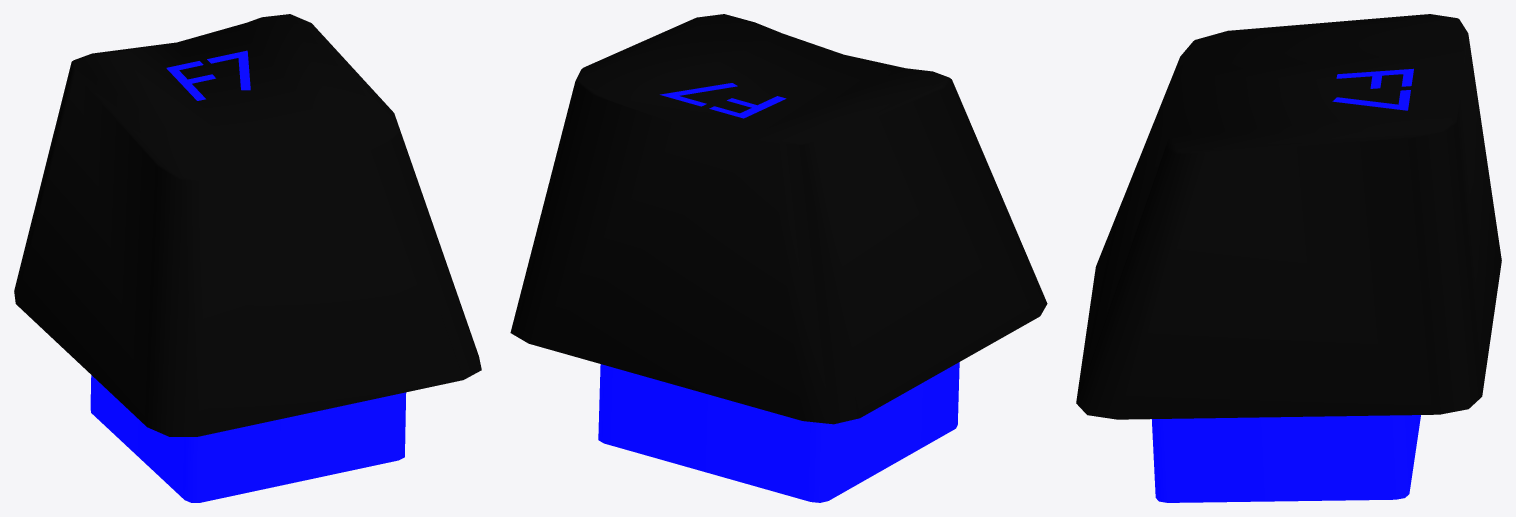
File: f7-B7yr6JSC.glb
3 renders of one model, left to right at view 1: azimuth 30°, elevation 25°; view 2: azimuth 150°, elevation 25°; view 3: azimuth 270°, elevation 25°, orthographic. The views are drawn at different scales.
Visible parts, largest first — view 1: StudyShelf_1132; view 2: StudyShelf_1132; view 3: StudyShelf_1132.
Part boxes in pixels (box(x1,y1,x2,y2)): StudyShelf_1132: box(14, 14, 481, 502); StudyShelf_1132: box(510, 14, 1047, 502); StudyShelf_1132: box(1076, 14, 1501, 502).
Bounding box in the file's own units: 4.35 × 4.28 × 4.35.
